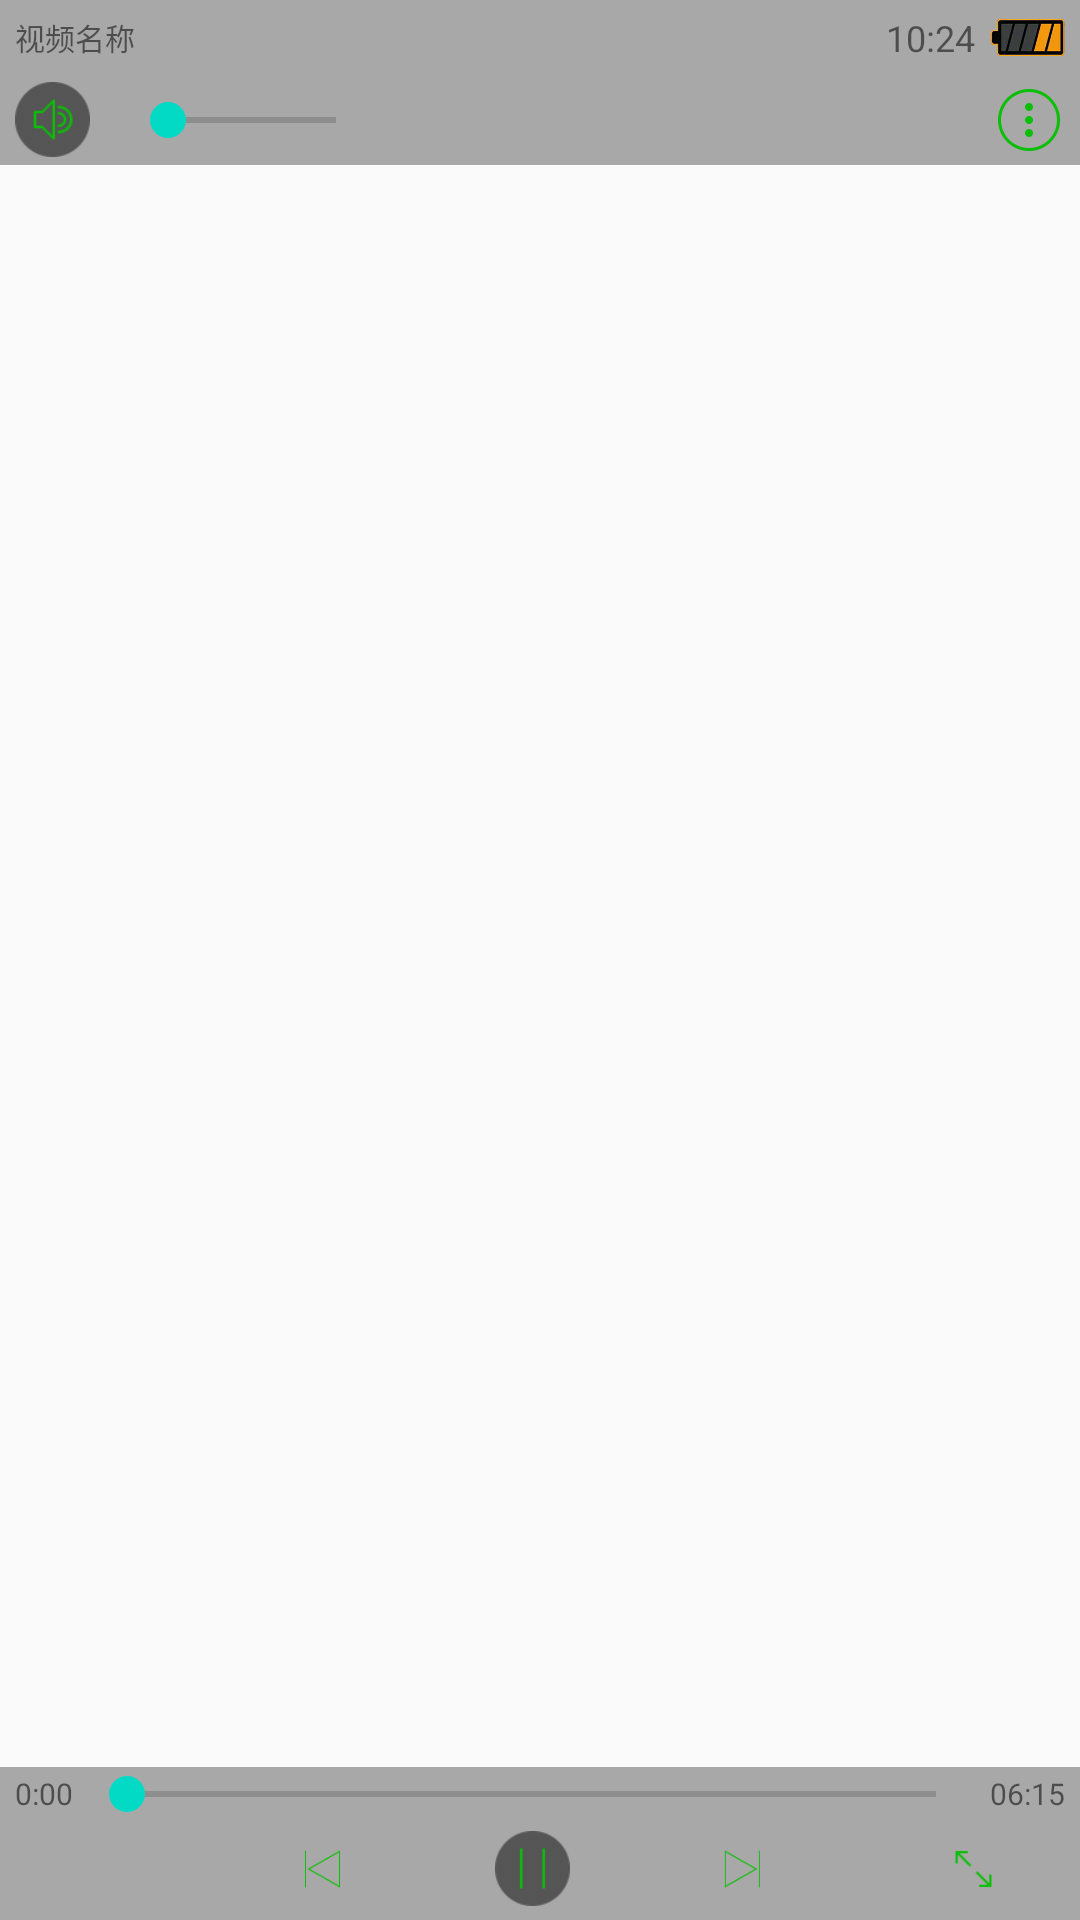

Named icons in this screenshot (1080px x 1920px) and their bounding boxes, (x1=x1, y1=y1, x2=x2, y2=y2):
dianci: (x1=991, y1=19, x2=1065, y2=56)
more control: (x1=998, y1=89, x2=1060, y2=151)
next: (x1=725, y1=1850, x2=760, y2=1888)
previous: (x1=305, y1=1850, x2=340, y2=1888)
qie quanping: (x1=955, y1=1851, x2=992, y2=1887)
sound on: (x1=15, y1=82, x2=90, y2=157)
stop: (x1=495, y1=1831, x2=570, y2=1906)
